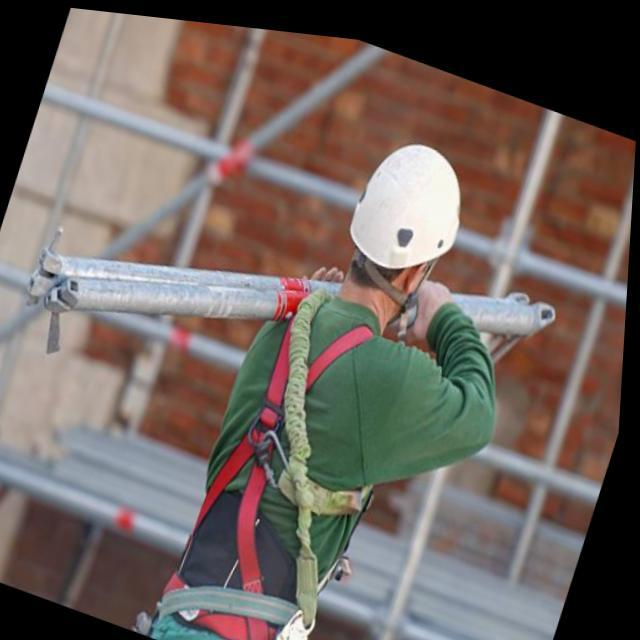belt: (151, 257, 415, 640)
